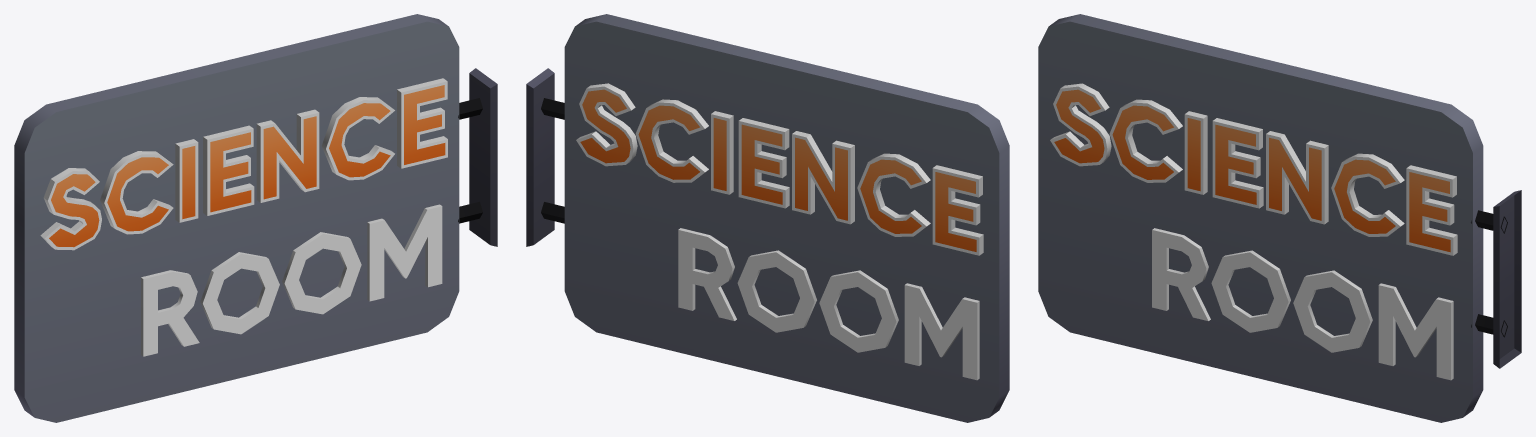
Rendered from CR_ClassSign_003.FBX.
3 views of the same model, side by side, from view 1: azimuth 30°, elevation 25°; view 2: azimuth 150°, elevation 25°; view 3: azimuth 330°, elevation 25° (orthographic).
Parts seen in each view (by area): view 1: CR_ClassSign_003; view 2: CR_ClassSign_003; view 3: CR_ClassSign_003.
Boxes of the visible parts, x1,y1,x2,y2 form: CR_ClassSign_003: (14,14,497,422); CR_ClassSign_003: (526,14,1009,422); CR_ClassSign_003: (1038,14,1521,422).
Size of the model in its own units: 51.9 by 33 by 4.22.
